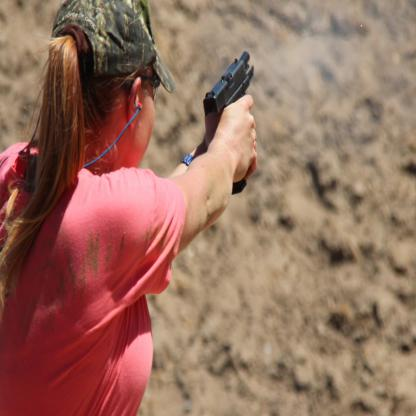gun: (199, 42, 265, 193)
